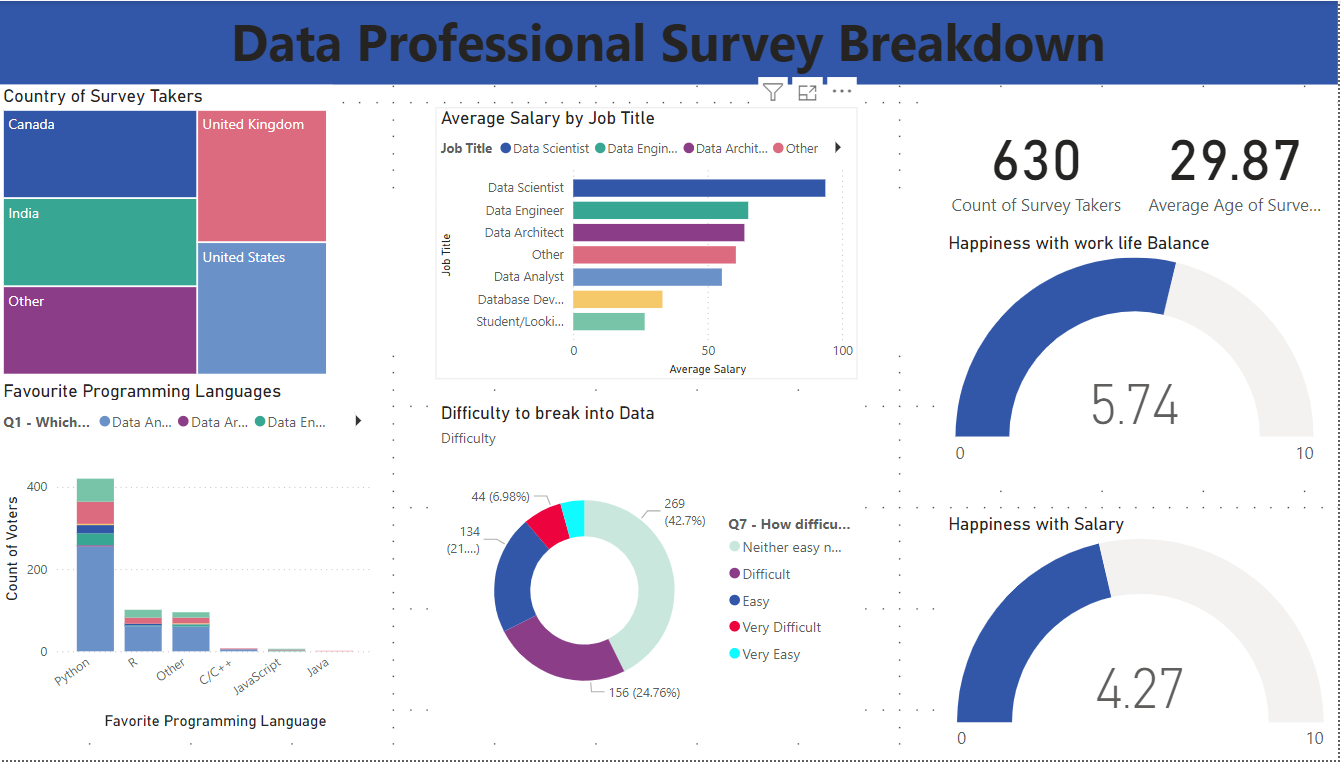

This screenshot's page, from the dashboard's own definition file:
{"tool":"powerbi","page":{"name":"Page 1","canvas":[1280,720],"ordinal":0},"visuals":[{"type":"textbox","box":[9.6,0,1270.7,79.6],"z":0},{"type":"textbox","box":[10,180,1270,150],"z":1000},{"type":"card","fields":{"Values":["Count(Data Professional Survey.Unique ID)"]},"box":[891.9,90.6,203.1,129],"z":2000},{"type":"card","fields":{"Values":["Avg(Data Professional Survey.Q10 - Current Age)"]},"box":[1095,90.6,174.3,129],"z":3000},{"type":"barChart","title":"Average Salary by Job Title","fields":{"Category":["Data Professional Survey.Q1 - Which Title Best Fits your Current Role?.1"],"Y":["Avg(Data Professional Survey.Average Salary)"],"Series":["Data Professional Survey.Q1 - Which Title Best Fits your Current Role?.1"]},"box":[424,100.2,400.7,259.3],"z":4000},{"type":"columnChart","title":"Favourite Programming Languages","fields":{"Category":["Data Professional Survey.Q5 - Favorite Programming Language.1"],"Y":["CountNonNull(Data Professional Survey.Unique ID)"],"Series":["Data Professional Survey.Q1 - Which Title Best Fits your Current Role?.1"]},"box":[9.6,359.5,360.9,336.2],"z":5000},{"type":"treemap","title":"Country of Survey Takers","fields":{"Group":["Data Professional Survey.Q11 - Which Country do you live in?.1"],"Values":["Count(Data Professional Survey.Q11 - Which Country do you live in?.1)"]},"box":[9.6,79.6,317,279.9],"z":6000},{"type":"gauge","title":"Happiness with work life Balance","fields":{"Y":["Avg(Data Professional Survey.Q6 - How Happy are you in your Current Position with the following? (Work/Life Balance))"],"MinValue":["Min(Data Professional Survey.Q6 - How Happy are you in your Current Position with the following? (Work/Life Balance))1"],"MaxValue":["Max(Data Professional Survey.Q6 - How Happy are you in your Current Position with the following? (Work/Life Balance))2"]},"box":[905.7,219.6,363.6,230.5],"z":7000},{"type":"gauge","title":"Happiness with Salary","fields":{"Y":["Avg(Data Professional Survey.Q6 - How Happy are you in your Current Position with the following? (Salary))"],"MinValue":["Min(Data Professional Survey.Q6 - How Happy are you in your Current Position with the following? (Salary))"],"MaxValue":["Max(Data Professional Survey.Q6 - How Happy are you in your Current Position with the following? (Salary))"]},"box":[905.7,485.8,374.6,234.6],"z":8000},{"type":"donutChart","title":"Difficulty to break into Data","fields":{"Category":["Data Professional Survey.Q7 - How difficult was it for you to break into Data?"],"Y":["CountNonNull(Data Professional Survey.Q7 - How difficult was it for you to break into Data?)"]},"box":[424,380.1,400.7,314.2],"z":9000}]}

Visuals, with their boxes in screenshot pixels (x1, y1, x2, y2), scaled from the page's 1280x720 canvas onto the 1341x762 screenshot:
textbox: select_region(10, 0, 1340, 84)
textbox: select_region(10, 190, 1340, 349)
card - Count(Data Professional Survey.Unique ID): select_region(934, 96, 1147, 232)
card - Avg(Data Professional Survey.Q10 - Current Age): select_region(1147, 96, 1330, 232)
"Average Salary by Job Title" barChart: select_region(444, 106, 864, 380)
"Favourite Programming Languages" columnChart: select_region(10, 380, 388, 736)
"Country of Survey Takers" treemap: select_region(10, 84, 342, 380)
"Happiness with work life Balance" gauge: select_region(949, 232, 1330, 476)
"Happiness with Salary" gauge: select_region(949, 514, 1340, 761)
"Difficulty to break into Data" donutChart: select_region(444, 402, 864, 735)
